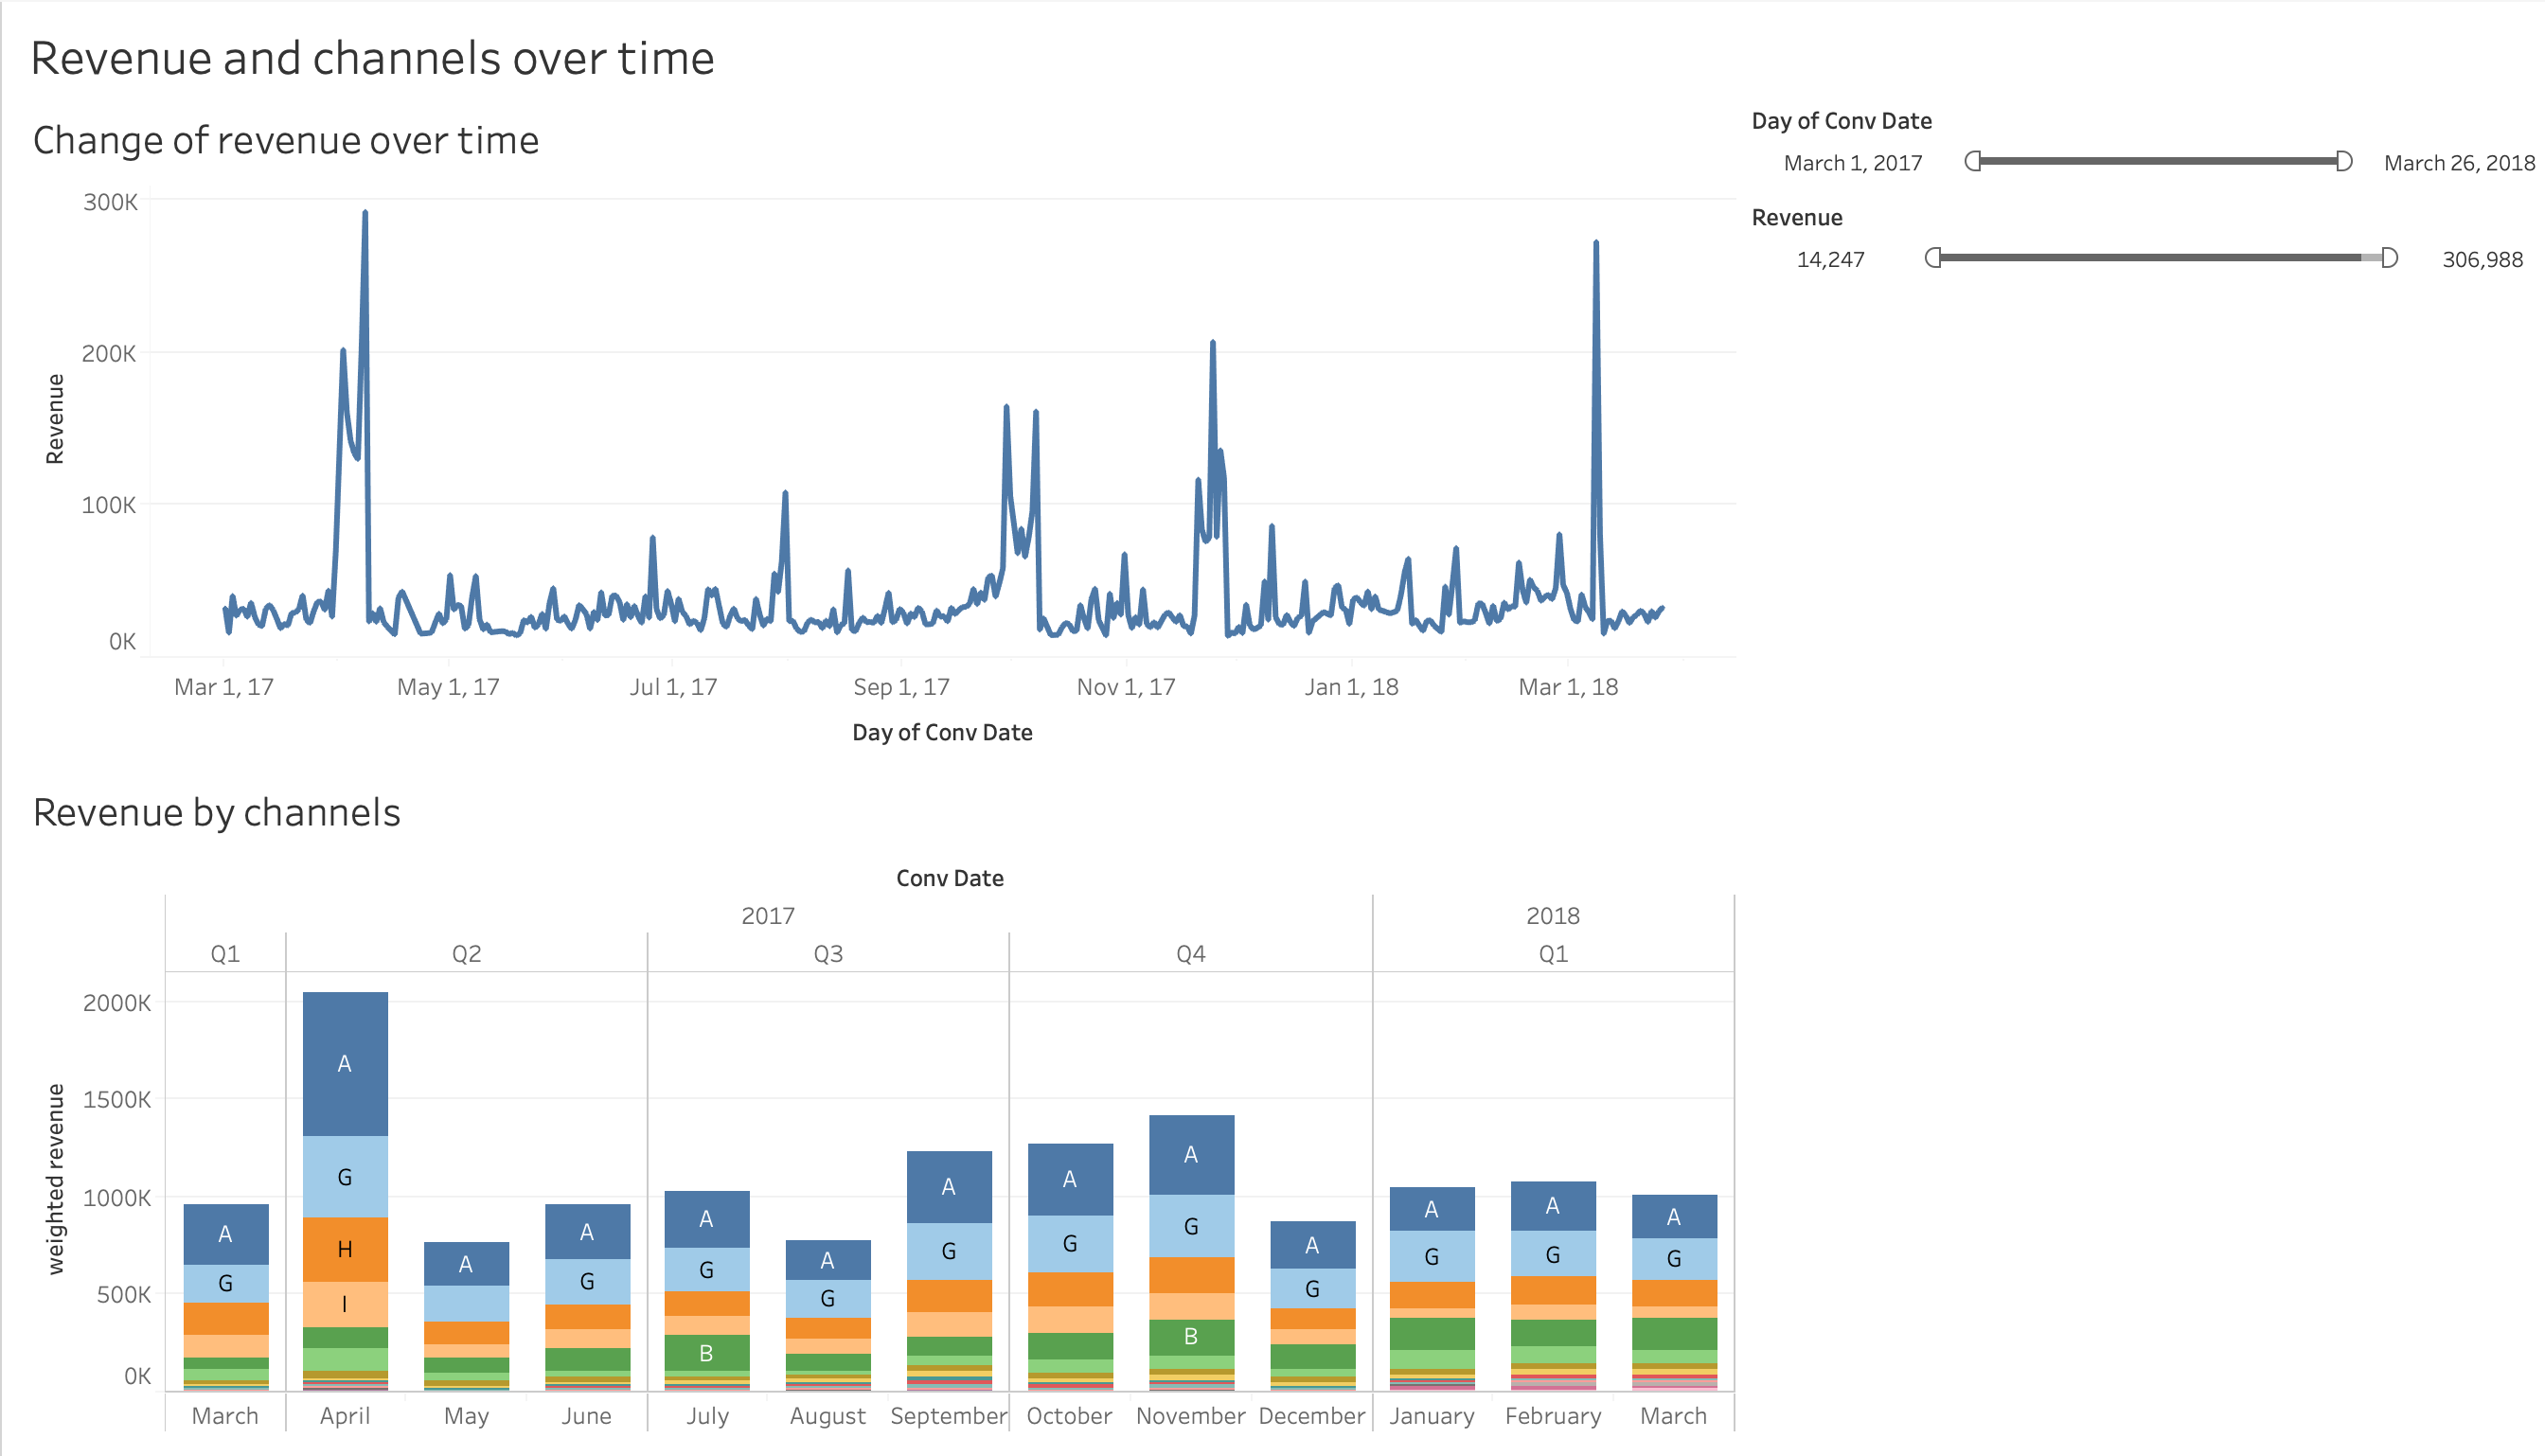

The dashboard page shown, as its layout file describes it:
{"tool":"tableau","page":{"name":"Revenue and channels over time","canvas":[1366,768],"ordinal":0},"visuals":[{"type":"worksheet","box":[0,0,1366,768]},{"type":"worksheet","param":"vert","box":[8,8,1350,752]},{"type":"worksheet","box":[8,8,1350,42]},{"type":"worksheet","param":"horz","box":[8,50,1350,710]},{"type":"worksheet","box":[8,50,912,710]},{"type":"worksheet","title":"Change of revenue over time","mark":"Automatic","rows":["Revenue"],"cols":["Conv_Date"],"box":[8,50,912,355]},{"type":"worksheet","param":"vert","box":[920,50,438,710]},{"type":"worksheet","title":"Change of revenue over time","mark":"Automatic","rows":["Revenue"],"cols":["Conv_Date"],"param":"[federated.0wa22tl1wqd4h910wcgi40a1r75f].[tdy:Conv_Date:qk]","box":[920,50,438,51]},{"type":"worksheet","title":"Change of revenue over time","mark":"Automatic","rows":["Revenue"],"cols":["Conv_Date"],"param":"[federated.0wa22tl1wqd4h910wcgi40a1r75f].[sum:Revenue:qk]","box":[920,101,438,66]},{"type":"worksheet","title":"Revenue by channels","mark":"Bar","rows":["Calculation_447756384100061188"],"cols":["Conv_Date","Conv_Date","Conv_Date"],"box":[8,405,912,355]}]}

Visuals, with their boxes in screenshot pixels (x1, y1, x2, y2), scaled from the page's 1366x768 canvas onto the 2545x1456 screenshot:
worksheet: {"left": 0, "top": 0, "right": 2544, "bottom": 1455}
worksheet: {"left": 15, "top": 15, "right": 2530, "bottom": 1441}
worksheet: {"left": 15, "top": 15, "right": 2530, "bottom": 95}
worksheet: {"left": 15, "top": 95, "right": 2530, "bottom": 1441}
worksheet: {"left": 15, "top": 95, "right": 1714, "bottom": 1441}
"Change of revenue over time" worksheet: {"left": 15, "top": 95, "right": 1714, "bottom": 768}
worksheet: {"left": 1714, "top": 95, "right": 2530, "bottom": 1441}
"Change of revenue over time" worksheet: {"left": 1714, "top": 95, "right": 2530, "bottom": 191}
"Change of revenue over time" worksheet: {"left": 1714, "top": 191, "right": 2530, "bottom": 316}
"Revenue by channels" worksheet (Bar marks): {"left": 15, "top": 768, "right": 1714, "bottom": 1441}
